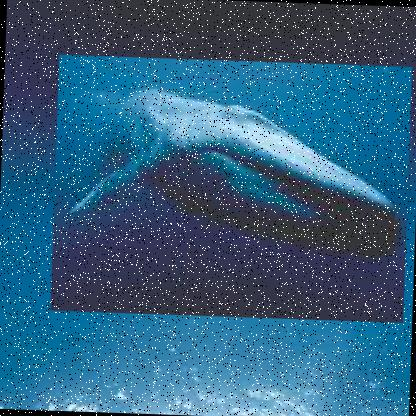blue_whale: (49, 54, 412, 323)
